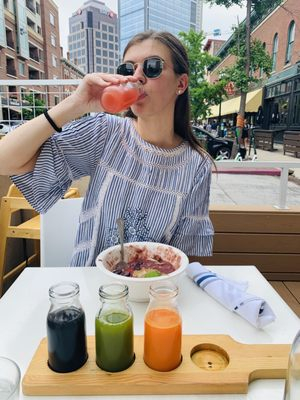sushi: (96, 241, 189, 302)
